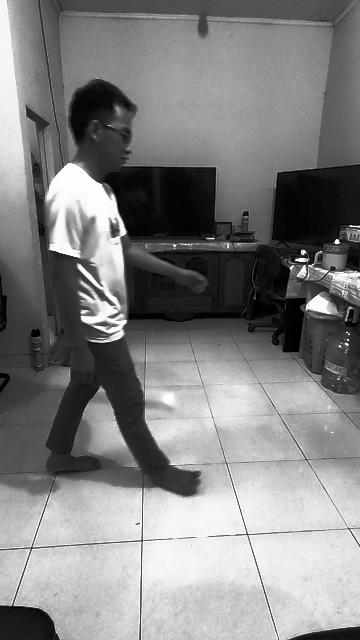berjalan: (34, 76, 204, 497)
